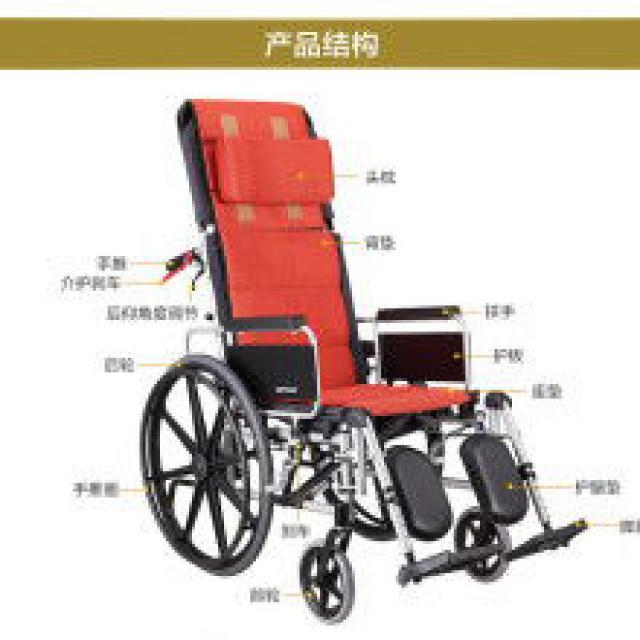wheelchair: (139, 87, 596, 628)
